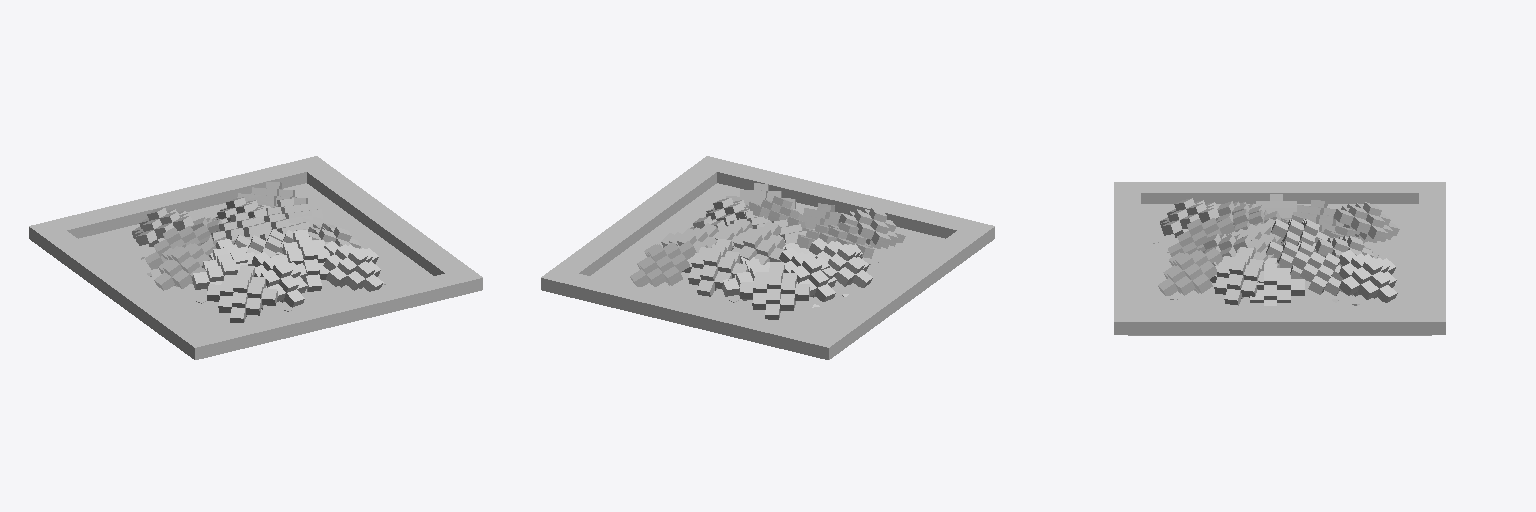
Rendered from veges0.obj.
3 renders of one model, left to right at view 1: azimuth 30°, elevation 25°; view 2: azimuth 150°, elevation 25°; view 3: azimuth 270°, elevation 25°, orthographic.
Visible parts, largest first — view 1: Box001, Plane122, Plane095, Plane098, Plane096, Plane093, Plane097, Plane104, Plane094, Plane105, Plane111, Plane101 (+5 smaller); view 2: Box001, Plane122, Plane104, Plane102, Plane101, Plane093, Plane105, Plane111, Plane095, Plane097, Plane094, Plane100 (+4 smaller); view 3: Box001, Plane122, Plane101, Plane099, Plane098, Plane104, Plane108, Plane100, Plane095, Plane096, Plane111, Plane105 (+5 smaller).
Boxes of the visible parts, box(x1,y1,x2,y2) form: Box001: box(29, 156, 482, 359); Plane122: box(79, 183, 432, 331); Plane095: box(207, 265, 277, 322); Plane098: box(323, 241, 383, 291); Plane096: box(252, 252, 307, 307); Plane093: box(154, 240, 216, 290); Plane097: box(273, 230, 329, 291); Plane104: box(132, 207, 193, 246); Plane094: box(192, 248, 254, 290); Plane105: box(145, 225, 212, 269); Plane111: box(211, 212, 275, 240); Plane101: box(237, 181, 307, 207); Box001: box(541, 156, 994, 359); Plane122: box(591, 183, 944, 331); Plane104: box(740, 262, 809, 319); Plane102: box(682, 238, 747, 296); Plane101: box(630, 241, 696, 286); Plane093: box(809, 238, 872, 287); Plane105: box(779, 248, 836, 301); Plane111: box(731, 221, 785, 264); Plane095: box(839, 208, 905, 248); Plane097: box(749, 196, 805, 229); Plane094: box(818, 222, 874, 258); Plane100: box(661, 223, 718, 272); Box001: box(1114, 182, 1445, 335); Plane122: box(1141, 204, 1418, 310); Plane101: box(1339, 250, 1397, 302); Plane099: box(1210, 247, 1264, 305); Plane098: box(1158, 248, 1222, 295); Plane104: box(1334, 202, 1399, 242); Plane108: box(1250, 258, 1304, 305); Plane100: box(1291, 251, 1352, 295); Plane095: box(1160, 198, 1219, 237); Plane096: box(1168, 217, 1235, 256); Plane111: box(1271, 219, 1328, 256); Plane105: box(1285, 200, 1343, 233).
Bounding box in the file's own units: 0.744 × 0.1637 × 0.744.